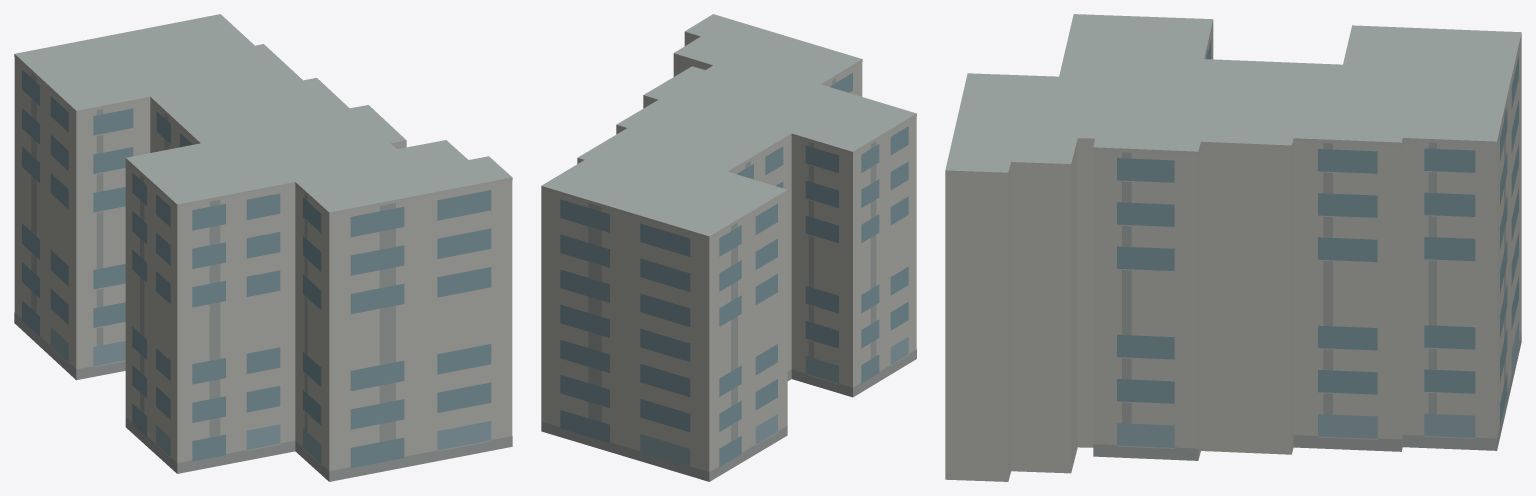
Rendered from survey-upis-32760142.glb.
The picture shows the model from 3 angles, left to right: view 1: azimuth 30°, elevation 25°; view 2: azimuth 150°, elevation 25°; view 3: azimuth 270°, elevation 25°; orthographic projection. The views are drawn at different scales.
Parts seen in each view (by area): view 1: survey-upis-32760142.tmp; view 2: survey-upis-32760142.tmp; view 3: survey-upis-32760142.tmp.
Part boxes in pixels (x1,y1,x2,y2): survey-upis-32760142.tmp: [14, 14, 512, 481]; survey-upis-32760142.tmp: [541, 14, 916, 481]; survey-upis-32760142.tmp: [945, 14, 1521, 481].
Size of the model in its own units: 21.85 by 19.85 by 33.54.
